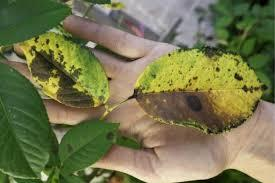leaf_spot: (17, 35, 259, 149)
